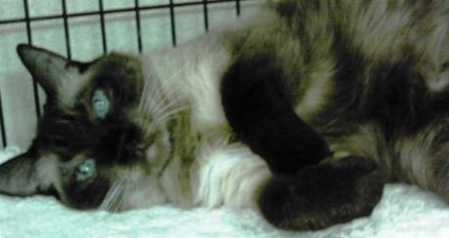Cat: (0, 34, 271, 212)
